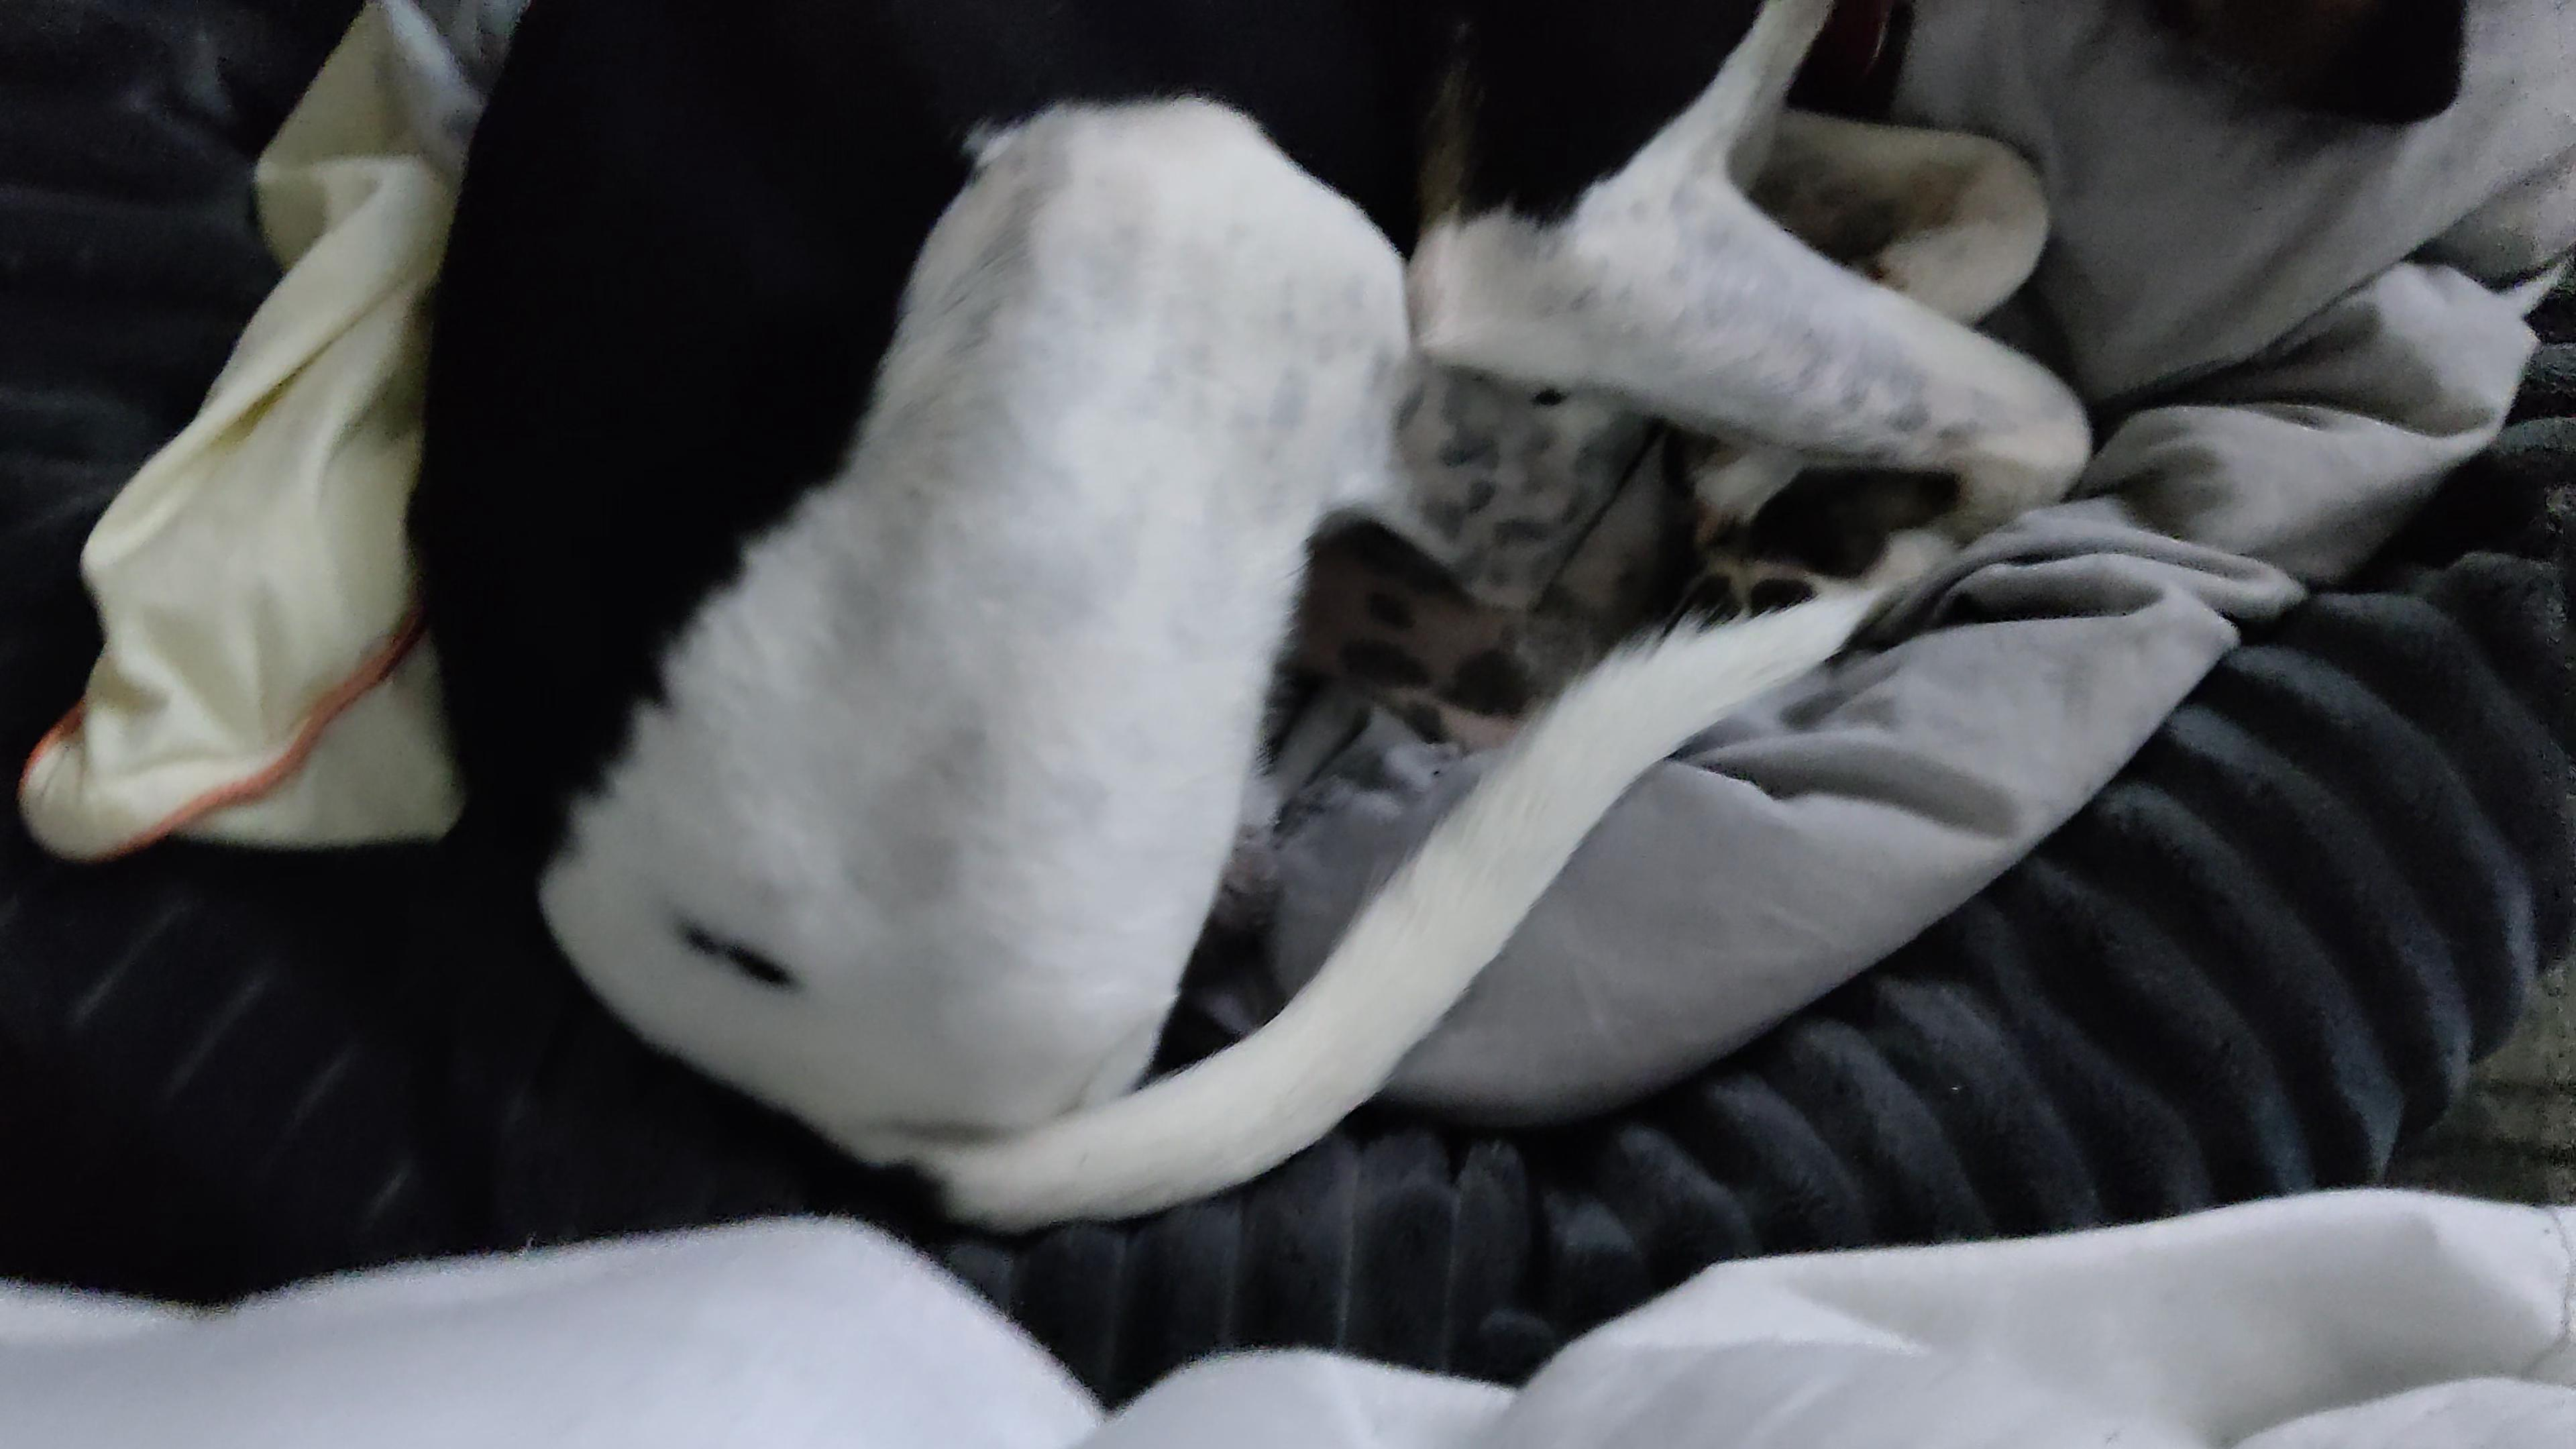Dog: (311, 0, 2208, 1263)
